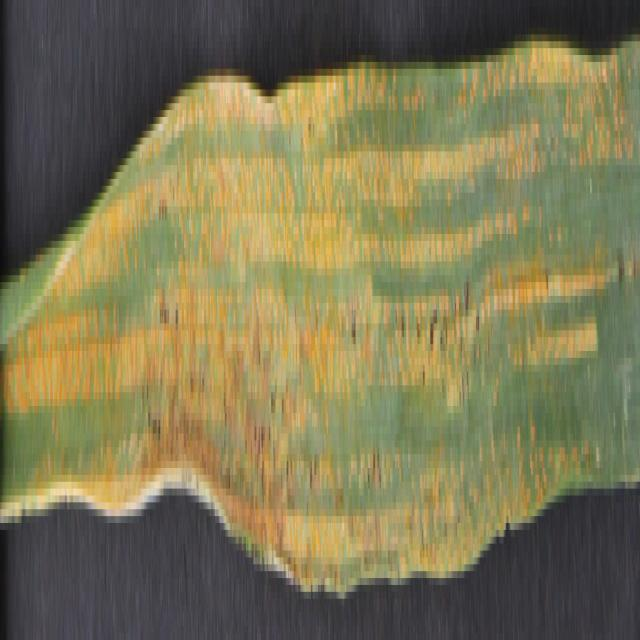leaf rust: (2, 14, 633, 564)
